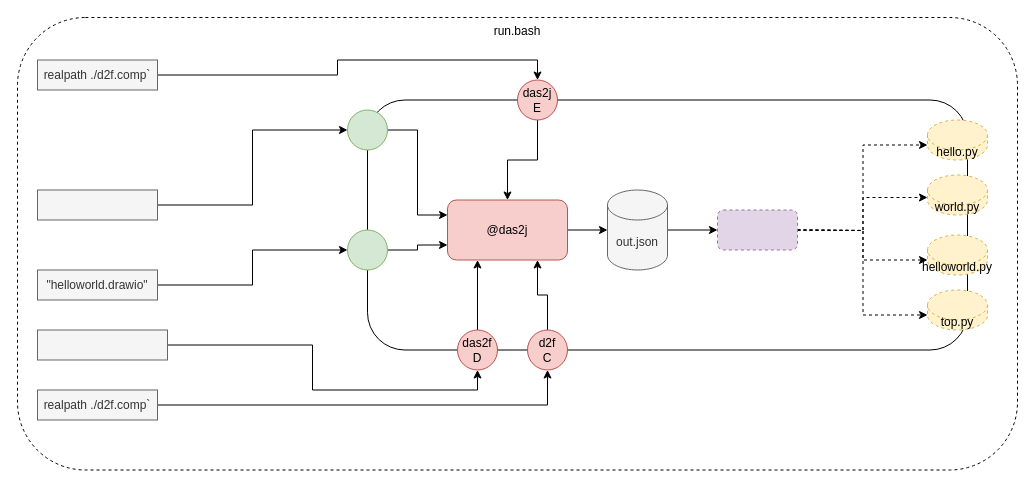
This 1035x488 diagram has some shape labels left out. The shapes that lost their labels are listed below. From the top down, each one's box as (x1, y1, x2, y2) in pixels, then its label:
(346, 109, 388, 150): root A
(36, 189, 158, 220): realpath ~/projects/`
(366, 99, 968, 350): das2py
(346, 229, 388, 270): name B
(716, 209, 798, 250): emit.py
(36, 329, 168, 360): realpath ./das2f.comp`
